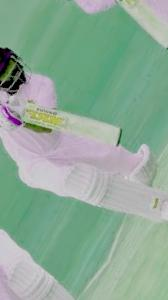batsman: (0, 30, 168, 257)
